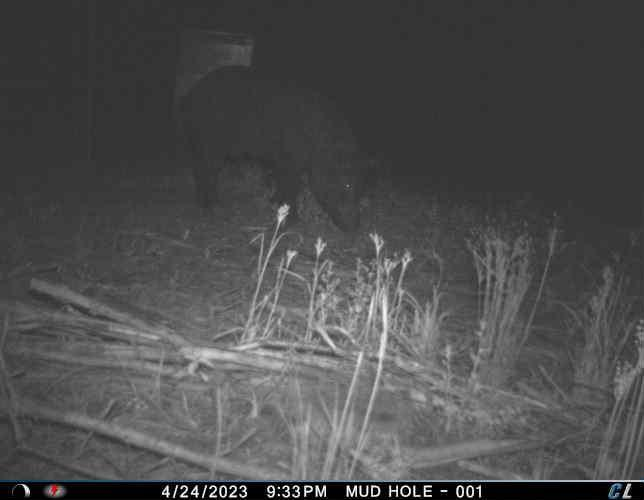Hog: (172, 57, 383, 231)
